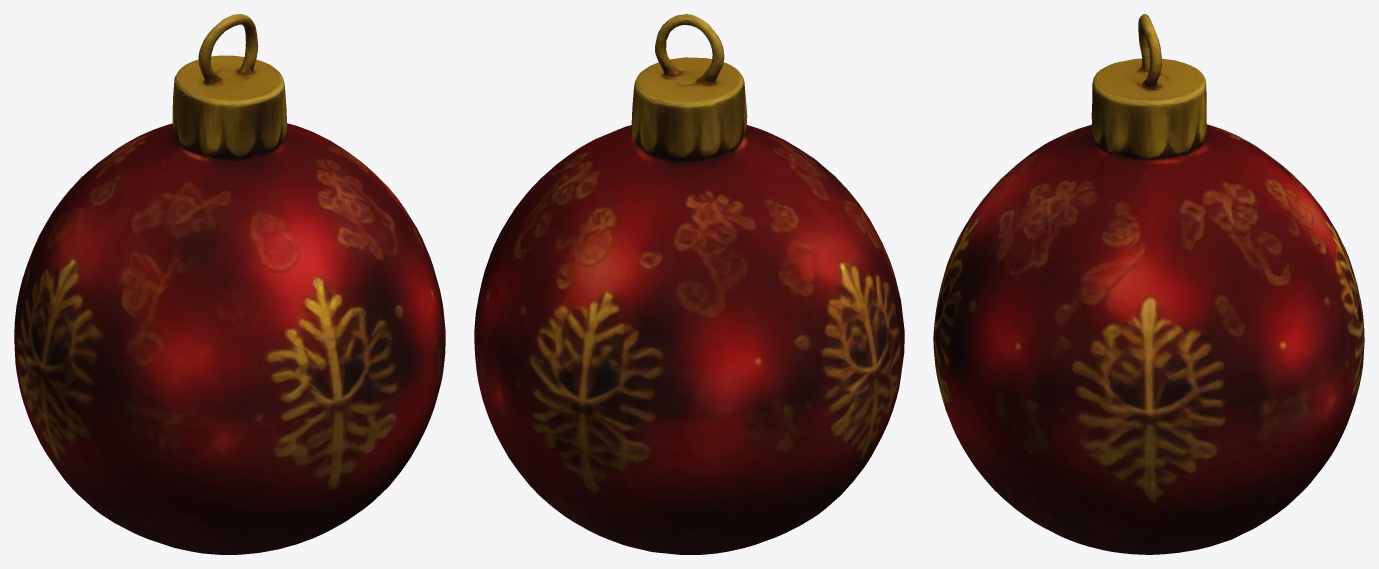
The picture shows the model from 3 angles, left to right: view 1: azimuth 30°, elevation 25°; view 2: azimuth 150°, elevation 25°; view 3: azimuth 270°, elevation 25°; orthographic projection.
Visible parts, largest first — view 1: world; view 2: world; view 3: world.
Boxes of the visible parts, x1,y1,x2,y2 form: world: (14, 14, 445, 554); world: (474, 14, 904, 554); world: (933, 14, 1364, 554).
Bounding box in the file's own units: 0.7516 × 0.998 × 0.7514.
Materials: 1 (1 with a texture image).
